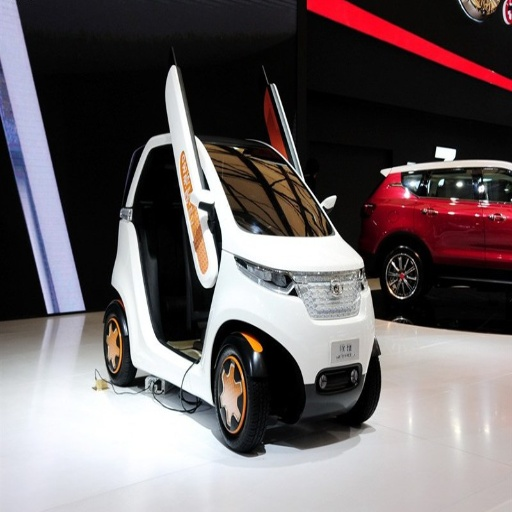front_bumper: (270, 302, 377, 417)
front_glass: (228, 153, 332, 235)
front_right_light: (240, 262, 347, 319)
hood: (241, 231, 357, 269)
